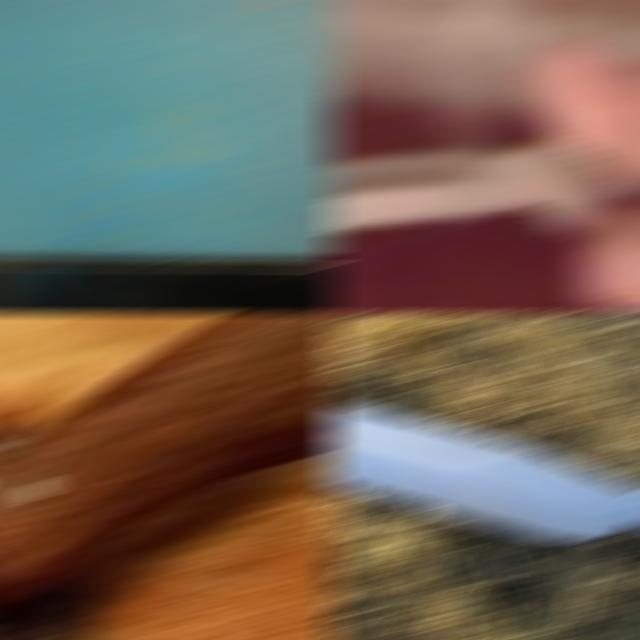Knife_Handle: (324, 8, 640, 312)
